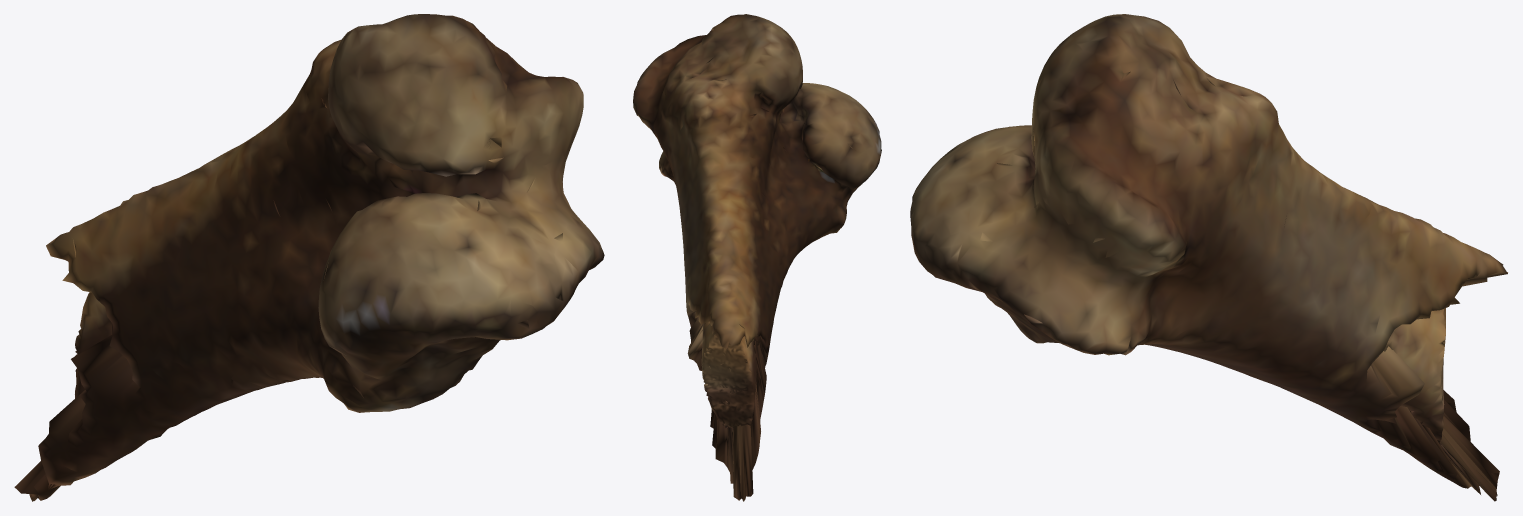
File: 4Half_Mastadon_Bone.fbx
3 views of the same model, side by side, from view 1: azimuth 30°, elevation 25°; view 2: azimuth 150°, elevation 25°; view 3: azimuth 270°, elevation 25° (orthographic). The views are drawn at different scales.
Parts seen in each view (by area): view 1: outerbone, innerbone; view 2: outerbone, innerbone; view 3: outerbone, innerbone.
Part boxes in pixels (x1,y1,x2,y2): outerbone: [14, 14, 604, 501]; innerbone: [75, 292, 112, 398]; outerbone: [633, 14, 881, 501]; innerbone: [701, 324, 759, 428]; outerbone: [910, 14, 1507, 501]; innerbone: [1384, 308, 1445, 445].
Size of the model in its own units: 11611 by 17578 by 16925.
